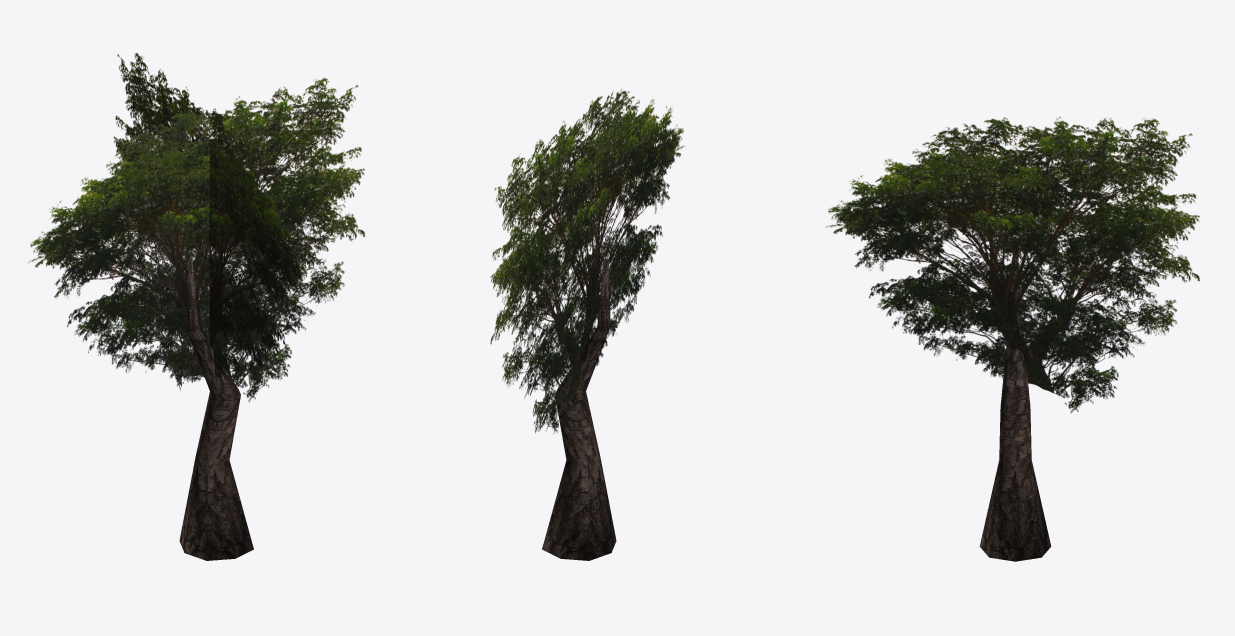
Rendered from tree2.glb.
The picture shows the model from 3 angles, left to right: view 1: azimuth 30°, elevation 25°; view 2: azimuth 150°, elevation 25°; view 3: azimuth 270°, elevation 25°; orthographic projection. The views are drawn at different scales.
Visible parts, largest first — view 1: tree2; view 2: tree2; view 3: tree2.
Part boxes in pixels (box(x1,y1,x2,y2)): tree2: box(27, 53, 365, 560); tree2: box(490, 88, 684, 560); tree2: box(825, 117, 1199, 561).
Bounding box in the file's own units: 1.06 × 1.25 × 1.06.
2 materials, 2 textured.
